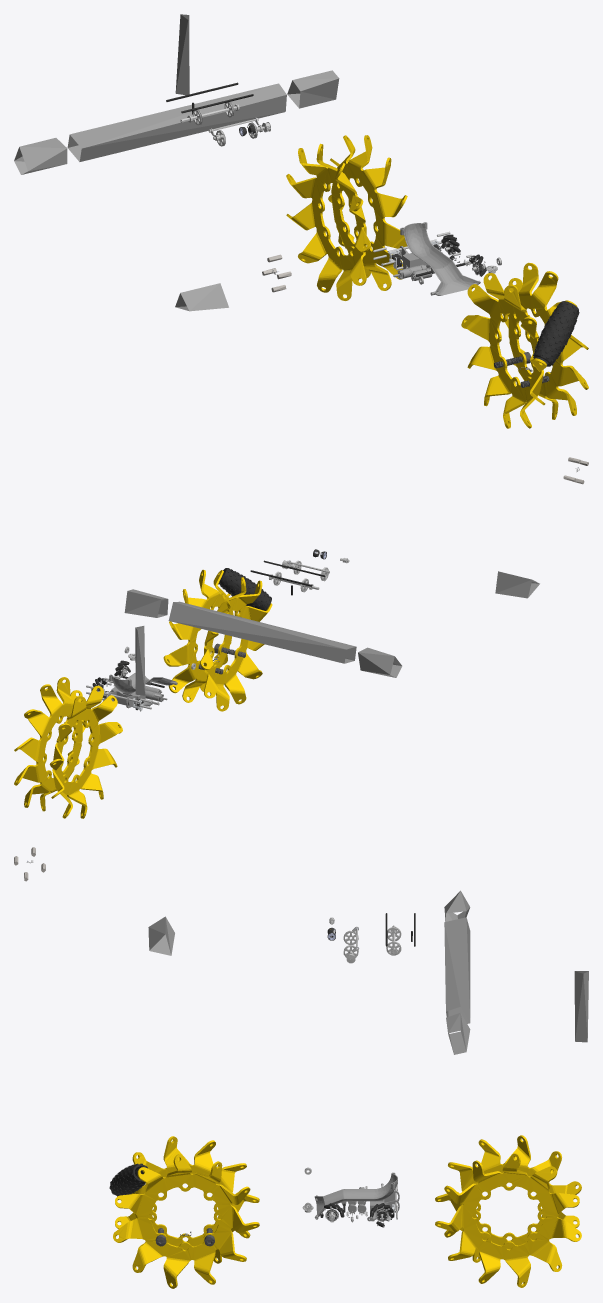
Rendered from robot.glb.
3 views of the same model, one above another, from view 1: azimuth 30°, elevation 25°; view 2: azimuth 150°, elevation 25°; view 3: azimuth 270°, elevation 25° (orthographic). The views are drawn at different scales.
Visible parts, largest first — view 1: INFERRED_CHASSIS, SOURCE_SHOOTER, INFERRED_CHASSIS_5a5a5a, INFERRED_INTAKE; view 2: INFERRED_CHASSIS, SOURCE_SHOOTER, INFERRED_CHASSIS_5a5a5a, INFERRED_INTAKE; view 3: INFERRED_CHASSIS, SOURCE_SHOOTER, INFERRED_CHASSIS_5a5a5a, INFERRED_INTAKE.
Part boxes in pixels (x1,y1,x2,y2): INFERRED_CHASSIS: [286, 135, 588, 428]; SOURCE_SHOOTER: [14, 14, 339, 311]; INFERRED_CHASSIS_5a5a5a: [390, 222, 480, 295]; INFERRED_INTAKE: [533, 301, 579, 366]; INFERRED_CHASSIS: [14, 569, 272, 818]; SOURCE_SHOOTER: [124, 555, 539, 695]; INFERRED_CHASSIS_5a5a5a: [97, 663, 177, 708]; INFERRED_INTAKE: [218, 568, 271, 610]; INFERRED_CHASSIS: [113, 1135, 581, 1288]; SOURCE_SHOOTER: [148, 890, 588, 1054]; INFERRED_CHASSIS_5a5a5a: [314, 1172, 399, 1222]; INFERRED_INTAKE: [109, 1163, 147, 1196].
Bounding box in the file's own units: 0.277 × 0.2037 × 0.3785.
